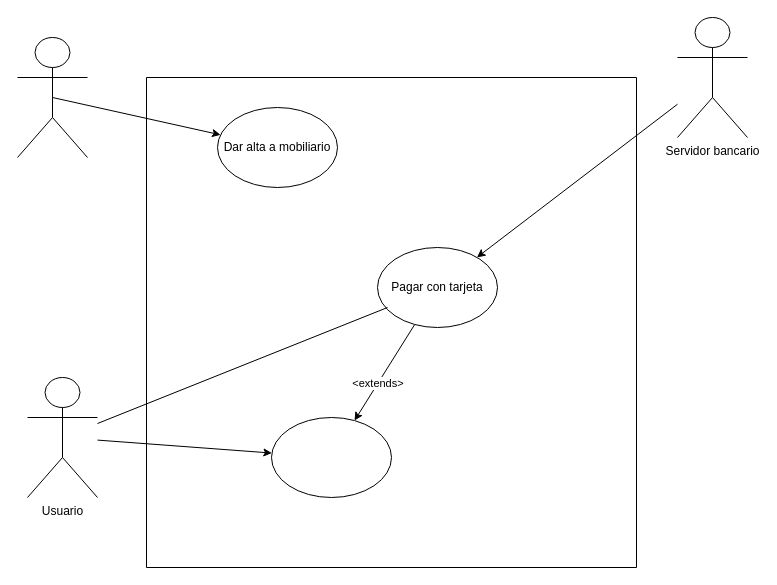
Some shapes in this 777 by 585 pixel diagram are drawn without their labels. Here are the shapes that lost their labels. From the top down, the centre of each, then its label:
At point 52,97: "Encargado".
At point 331,457: "Reservar alquiler".
